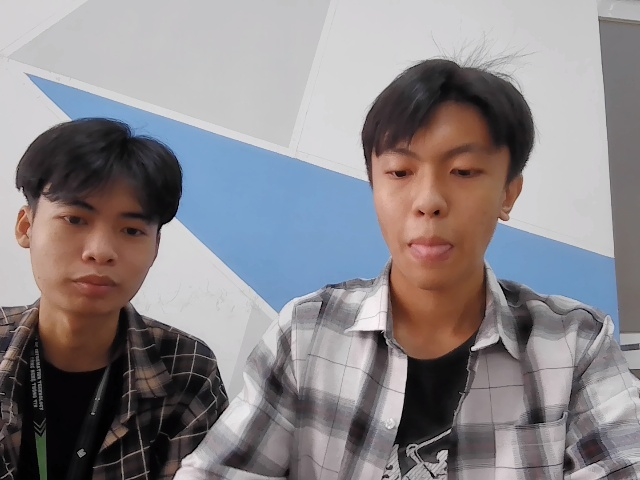human: (361, 56, 533, 296), (18, 124, 178, 311)
